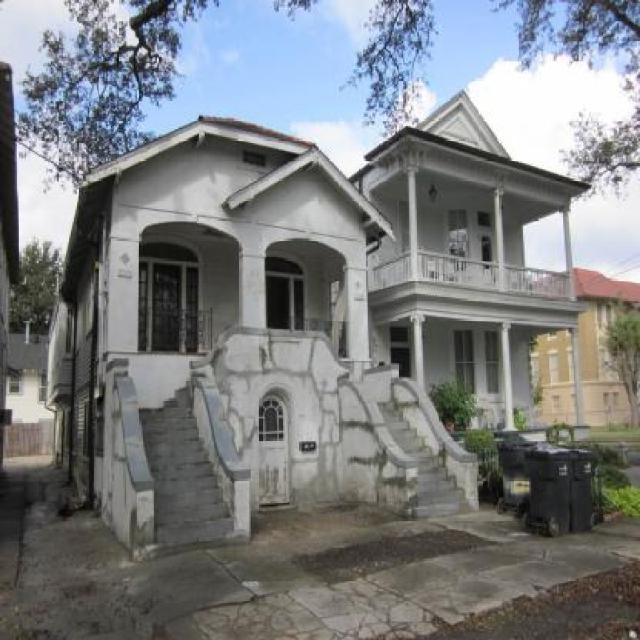stair: (135, 406, 235, 546), (374, 397, 472, 514)
